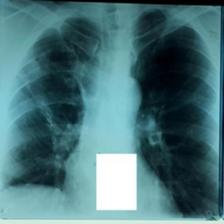tuberculosis: (1, 1, 222, 224)
